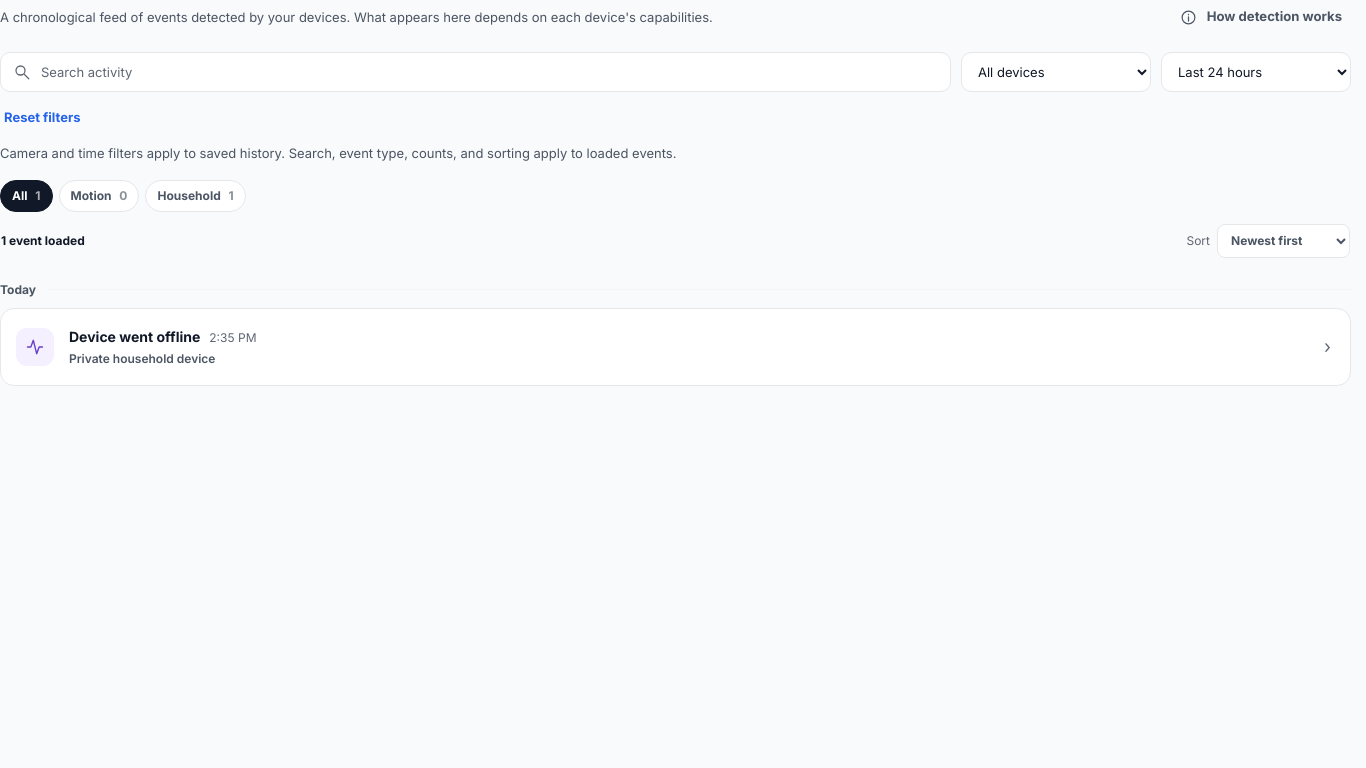
Scenario: Activity timeline › closes household details when household activity eligibility is removed
This screenshot has width=1366, height=768.
Click the text "Device went offline" at (135, 336), box left=69, top=326, right=200, bottom=346
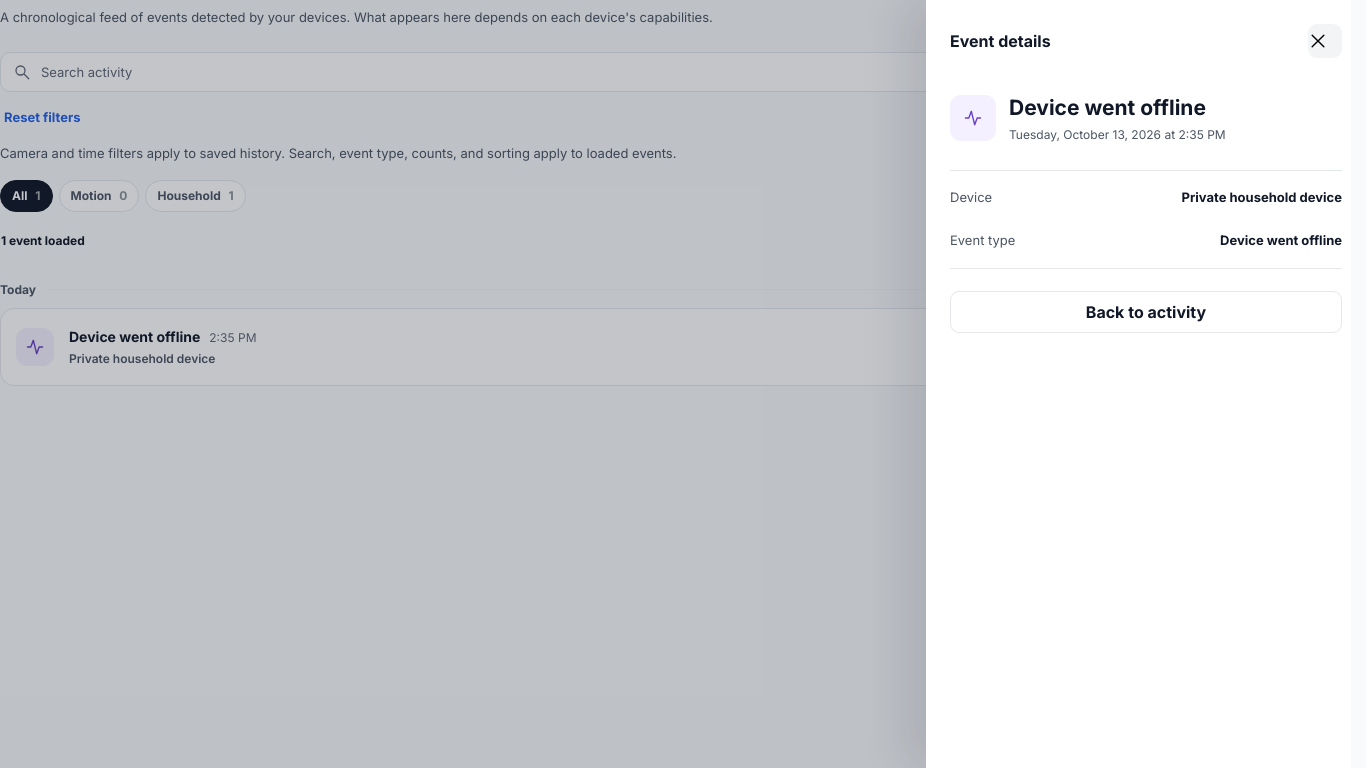
Result: the dialog shows "Private household device" at left=1182, top=188, right=1342, bottom=204
